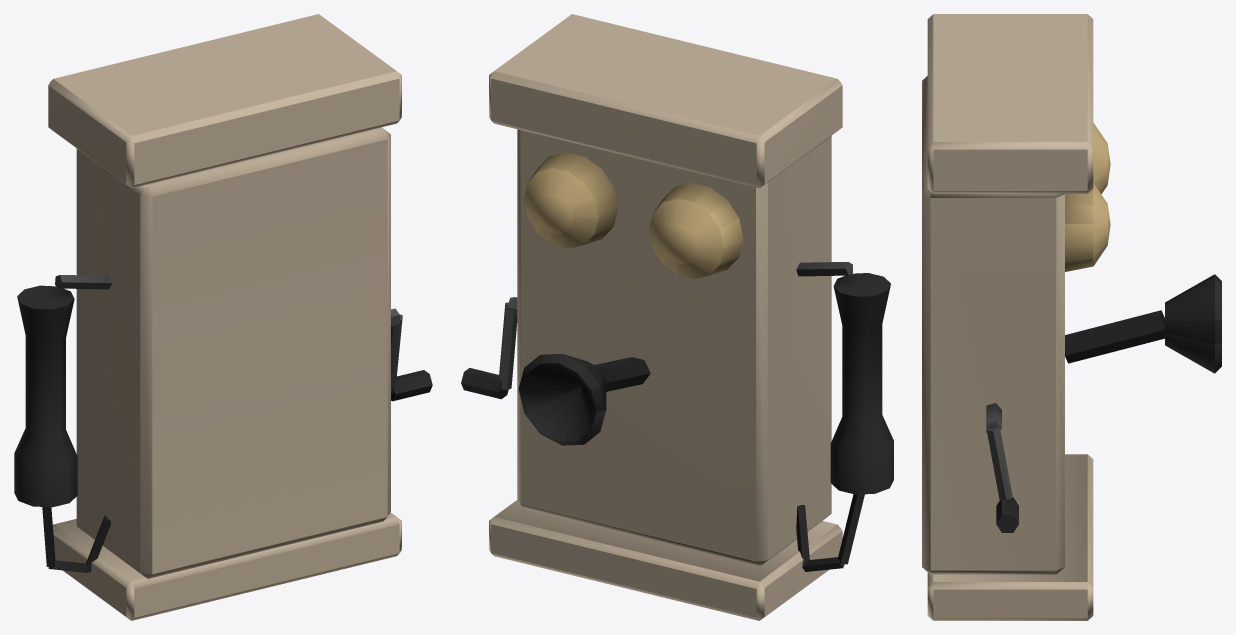
The model's file is wall_telephone.glb.
The picture shows the model from 3 angles, left to right: view 1: azimuth 30°, elevation 25°; view 2: azimuth 150°, elevation 25°; view 3: azimuth 270°, elevation 25°; orthographic projection.
Visible parts, largest first — view 1: static; view 2: static; view 3: static.
Part boxes in pixels (x1,y1,x2,y2): static: [14, 14, 432, 620]; static: [461, 14, 893, 620]; static: [922, 14, 1221, 620].
Size of the model in its own units: 0.332 by 0.37 by 0.21.
